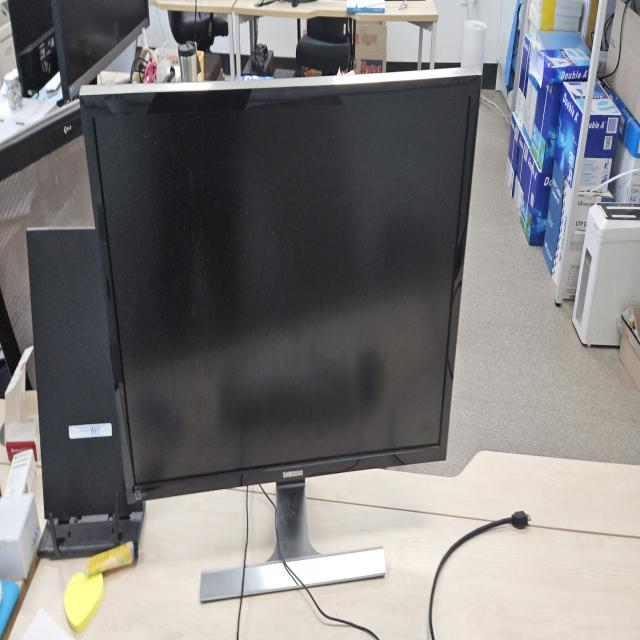Monitor: (76, 63, 482, 600)
